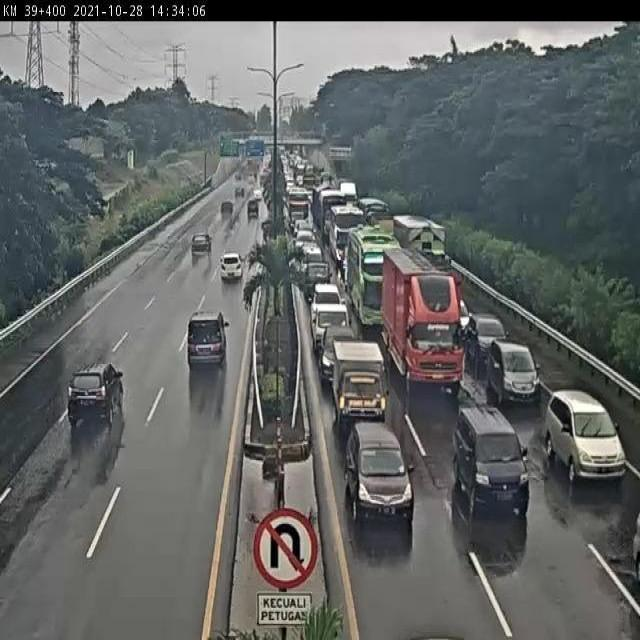bus-l-: (348, 228, 401, 329), (327, 204, 367, 260)
car: (450, 409, 531, 516), (544, 388, 628, 485), (340, 421, 416, 527), (331, 336, 388, 423), (486, 336, 542, 403), (67, 362, 125, 426), (184, 311, 232, 373), (320, 331, 361, 386), (313, 303, 352, 357), (466, 313, 508, 360), (298, 258, 330, 298), (307, 283, 346, 308), (447, 293, 470, 335), (296, 238, 320, 266), (294, 222, 312, 242)
truck-l-: (380, 247, 459, 393), (393, 214, 457, 286)
